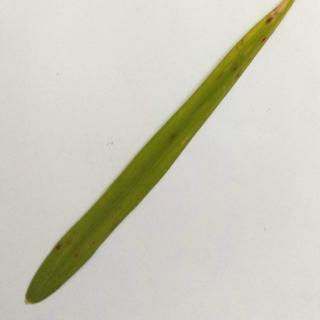bercak-Cokelat: (264, 15, 276, 24), (258, 38, 267, 42)
